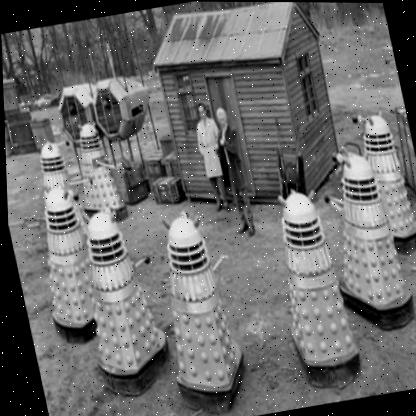dalek: (45, 192, 188, 415), (127, 199, 263, 416), (305, 137, 416, 348), (272, 181, 365, 397), (26, 174, 104, 351), (338, 90, 416, 257), (62, 113, 138, 232), (20, 132, 82, 207)
person: (209, 96, 269, 247), (186, 96, 237, 217)
